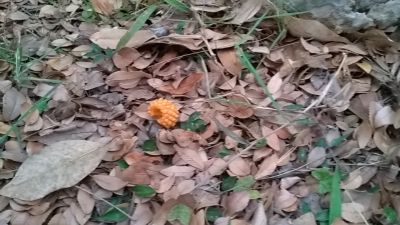eggs: (148, 98, 179, 130)
